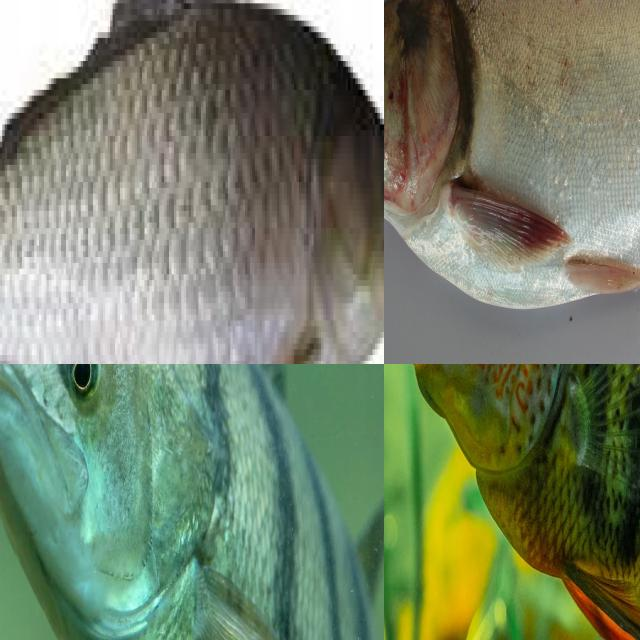fish: (0, 0, 384, 364), (384, 0, 640, 324), (78, 364, 260, 640), (459, 364, 640, 633)
